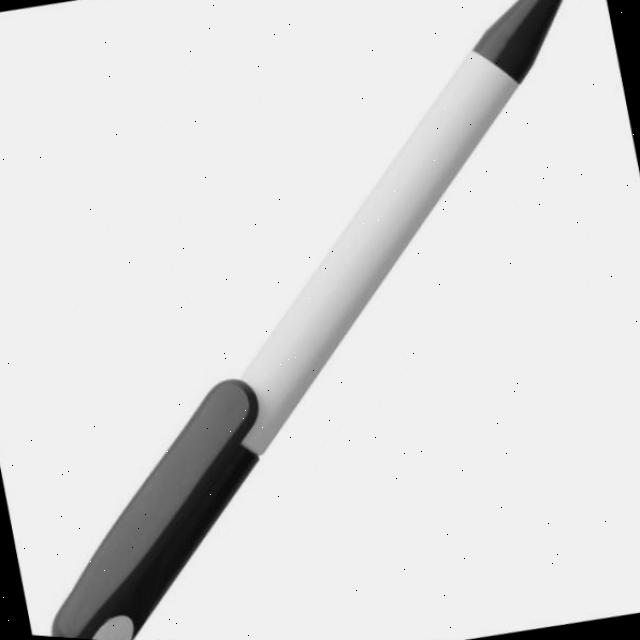pencil: (44, 0, 570, 640)
